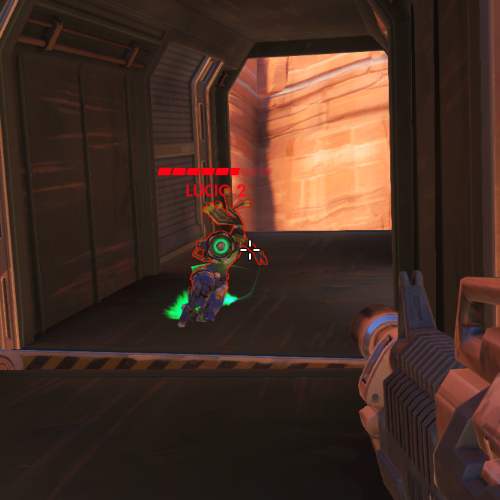hpbar: (157, 166, 273, 176)
